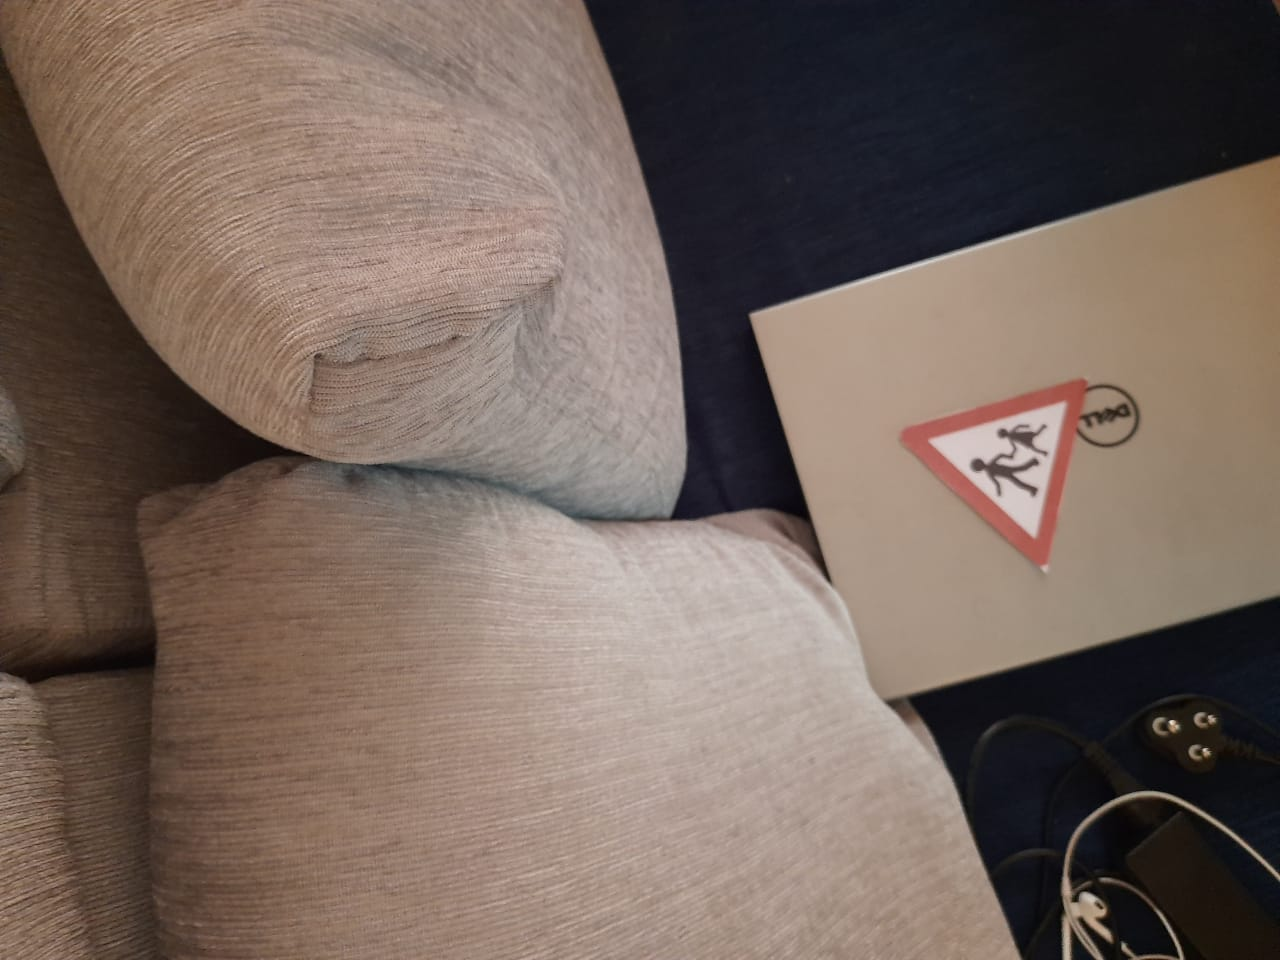SCHOOL ZONE: (891, 333, 1098, 575)
